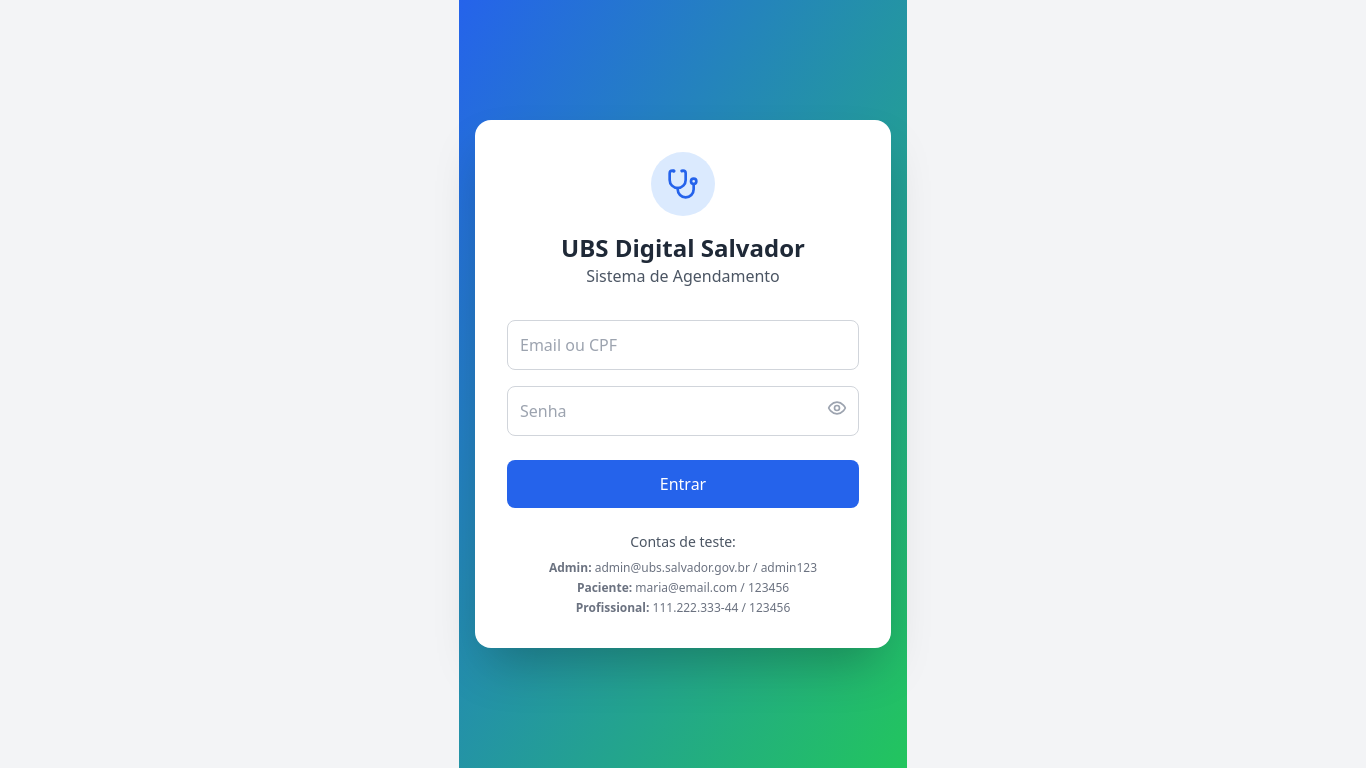
Scenario: Agendamento de Consultas - UBS Digital Salvador › Agendamento pelo Paciente › Deve validar sequência correta do fluxo de agendamento
Type "maria@email.com" into the field with test id "input-email". click: x=683, y=345
box: top-left (507, 320), bottom-right (859, 370)
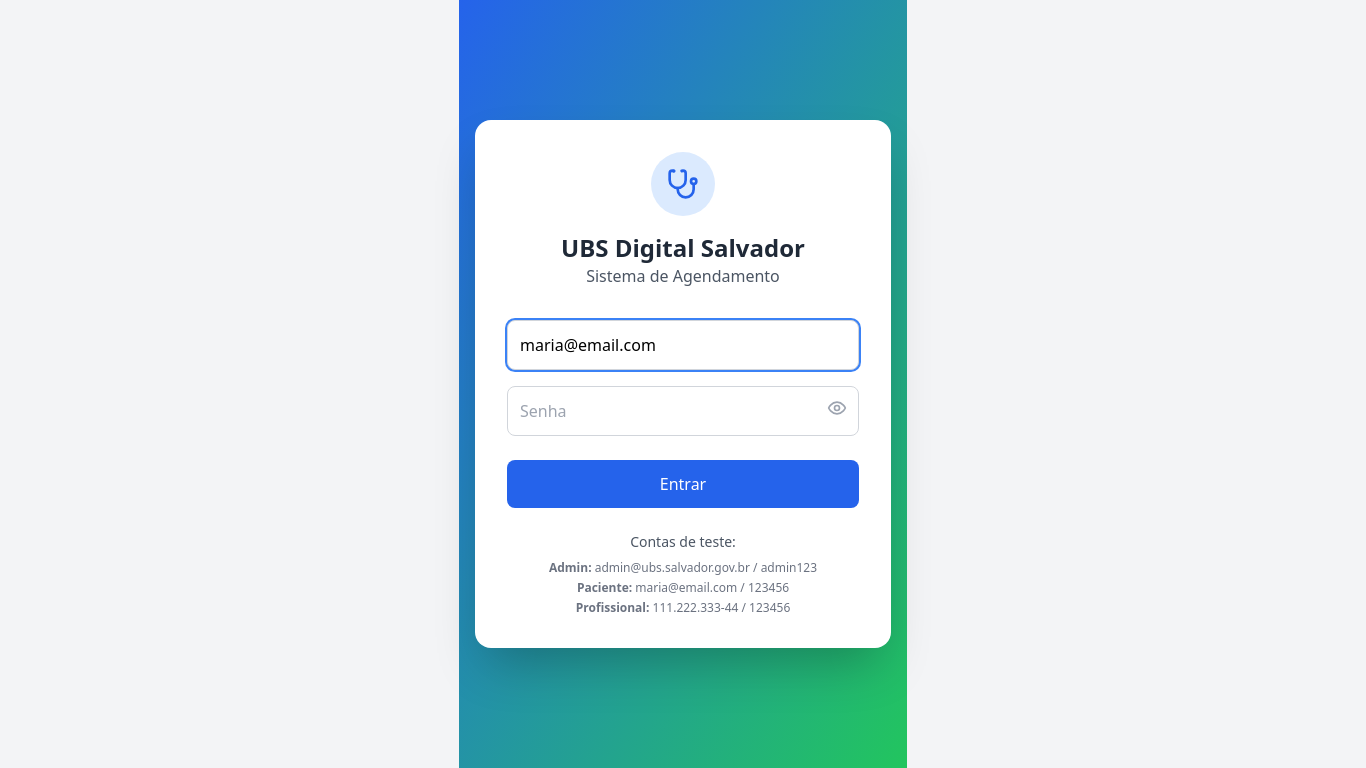
Type "123456" into the password field with test id "input-password". click: x=683, y=411
box: top-left (507, 386), bottom-right (859, 436)
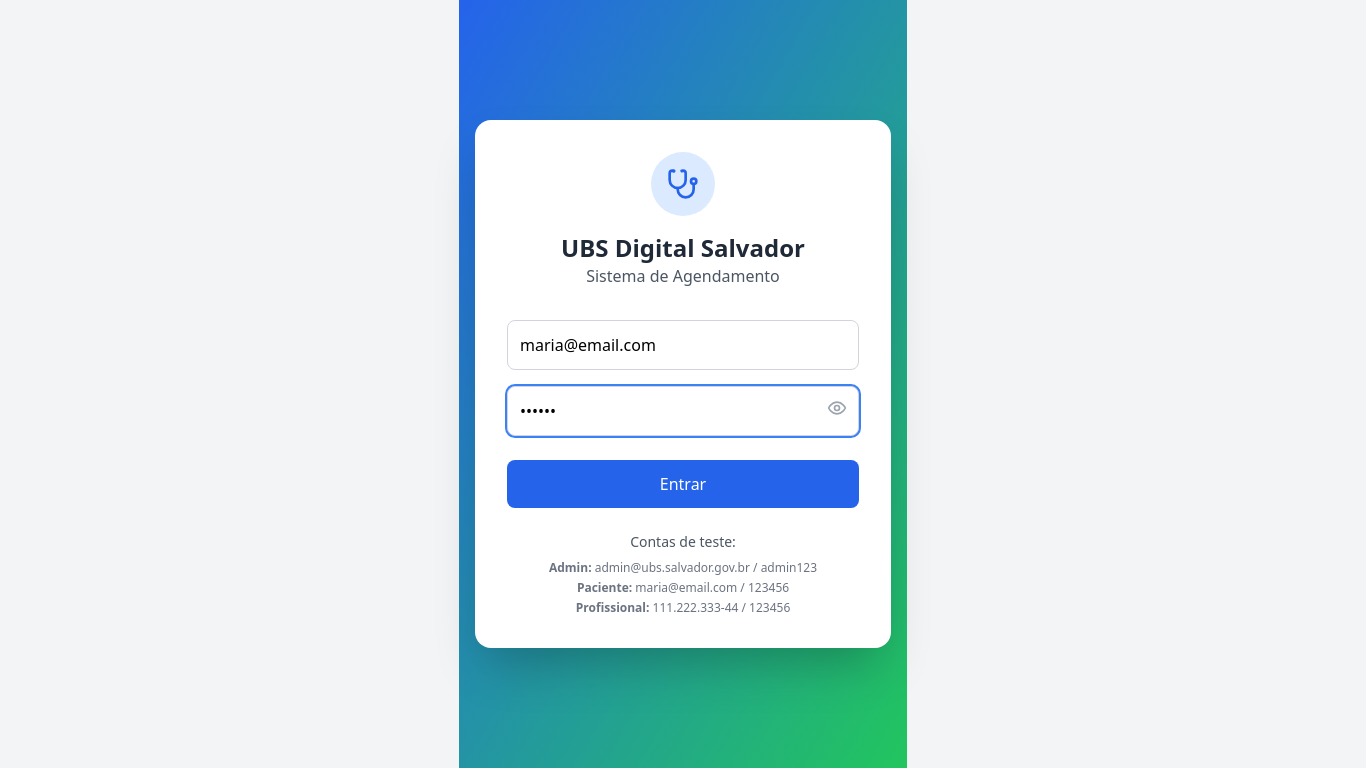
Click the button with test id "btn-login". click: x=683, y=484
box: top-left (507, 460), bottom-right (859, 508)
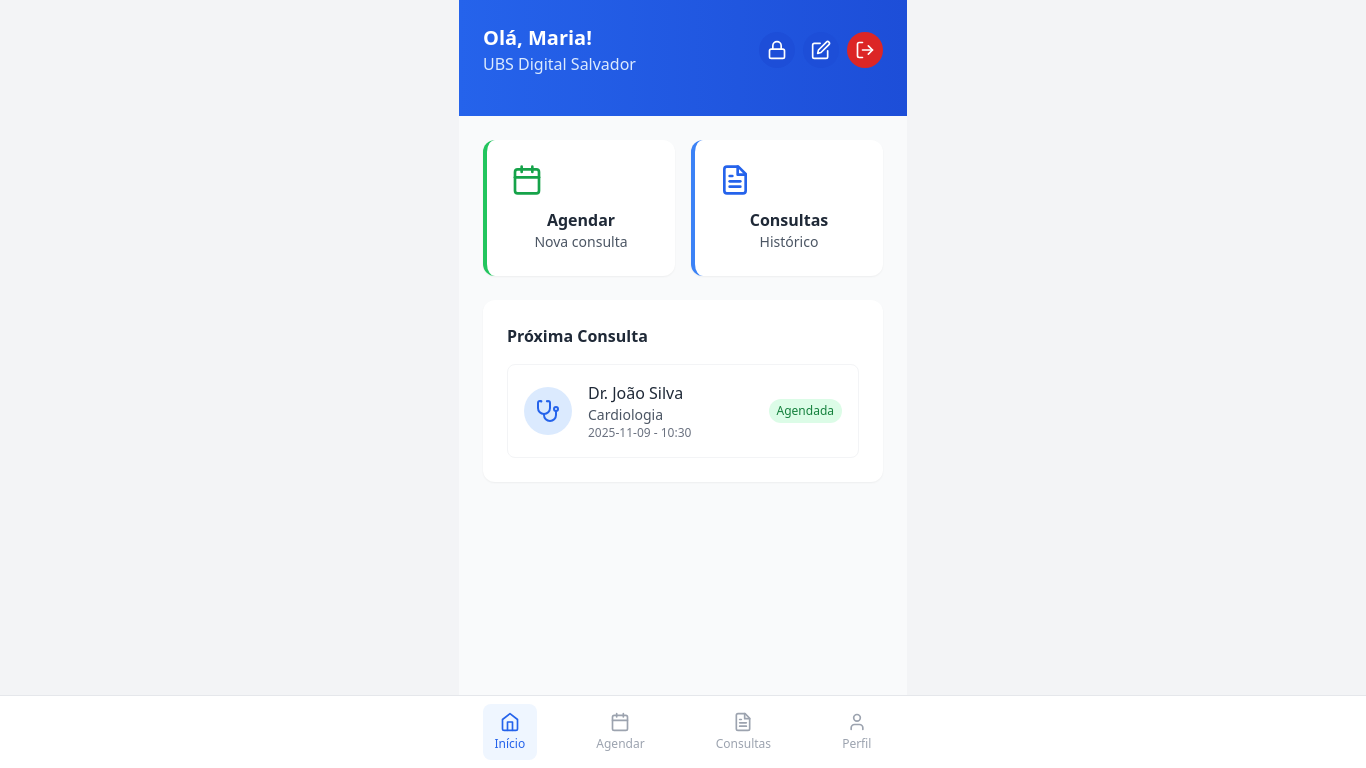
Expected: the heading "Olá, Maria!" is shown, top-left (483, 24), bottom-right (592, 51)
Click the button with test id "btn-schedule". click: x=579, y=208
box: top-left (483, 140), bottom-right (675, 276)
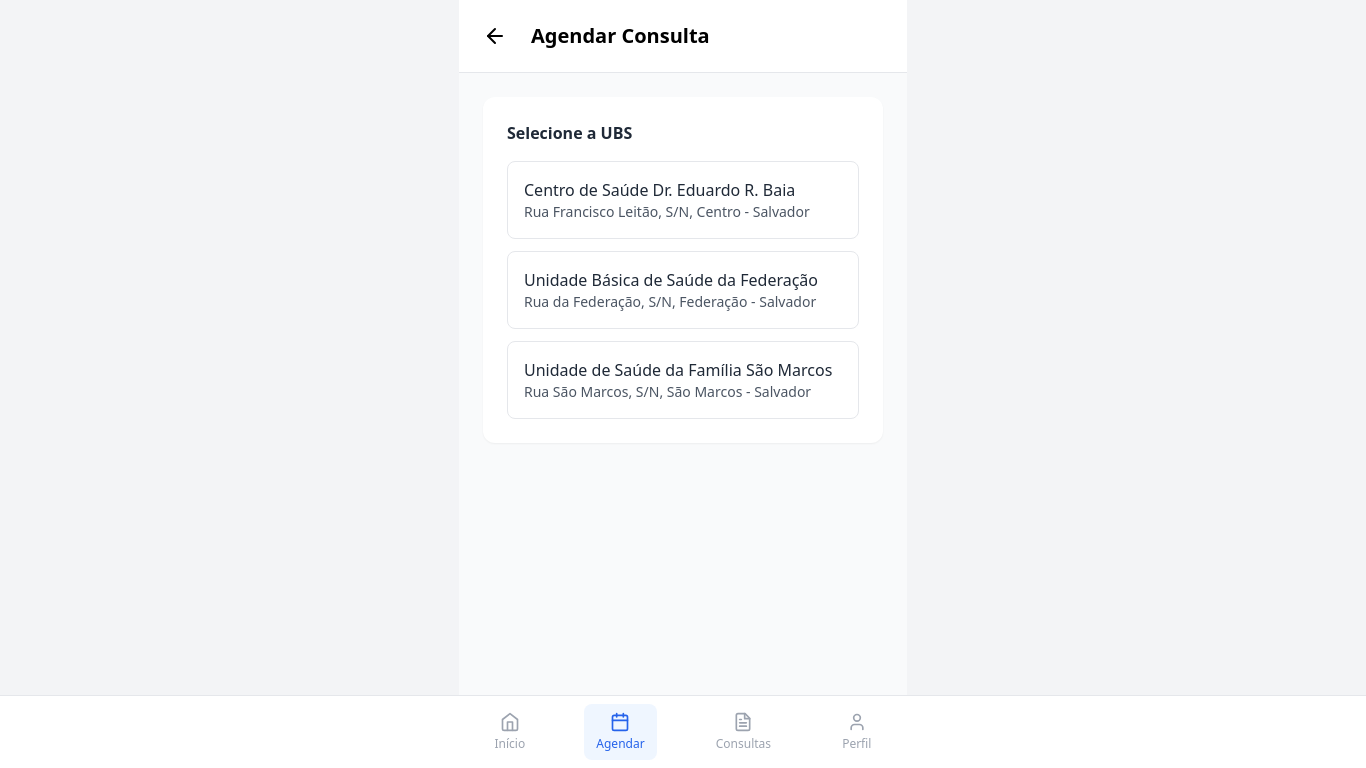
Expected: the text "selecione o profissional" is not shown
Expected: the heading "Selecione a UBS" is shown, top-left (507, 122), bottom-right (632, 144)
Click the button "Unidade Básica de Saúde da Federação". click: x=683, y=290
box: top-left (507, 251), bottom-right (859, 329)
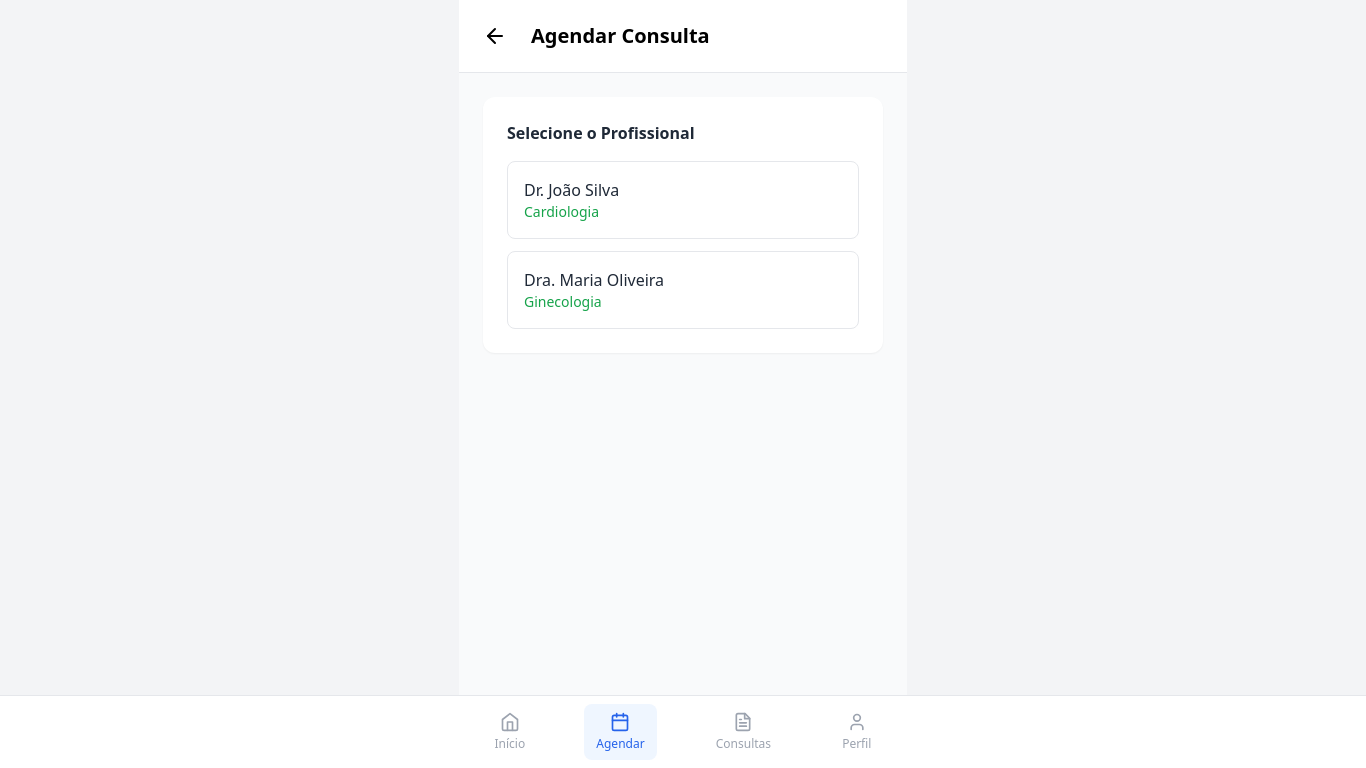
Expected: the text "selecione a data" is not shown
Expected: the heading "Selecione o Profissional" is shown, top-left (507, 122), bottom-right (694, 144)
Click the button "Dra. Maria Oliveira Ginecologia". click: x=594, y=280
box: top-left (507, 251), bottom-right (859, 329)
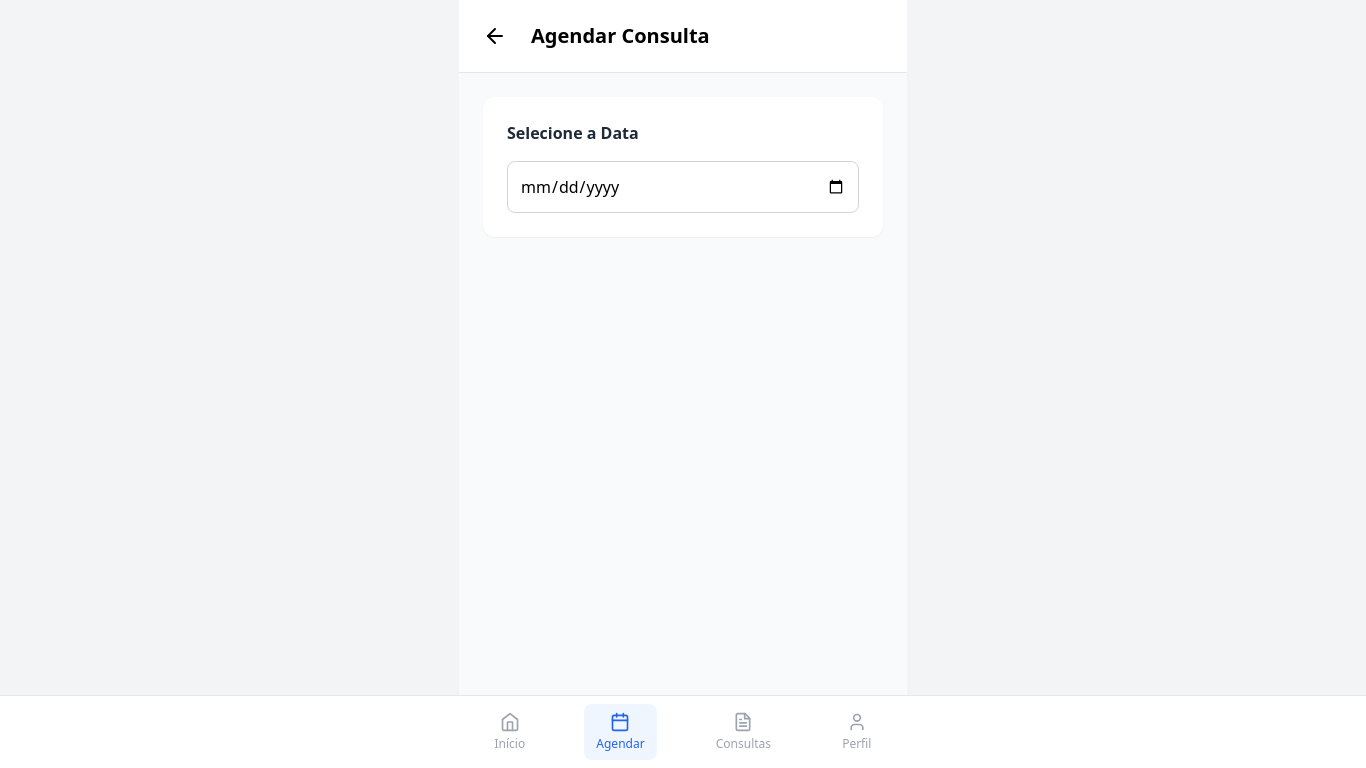
Expected: the heading "Selecione a Data" is shown, top-left (507, 122), bottom-right (639, 144)
Expected: the date field is shown, top-left (507, 161), bottom-right (859, 213)
